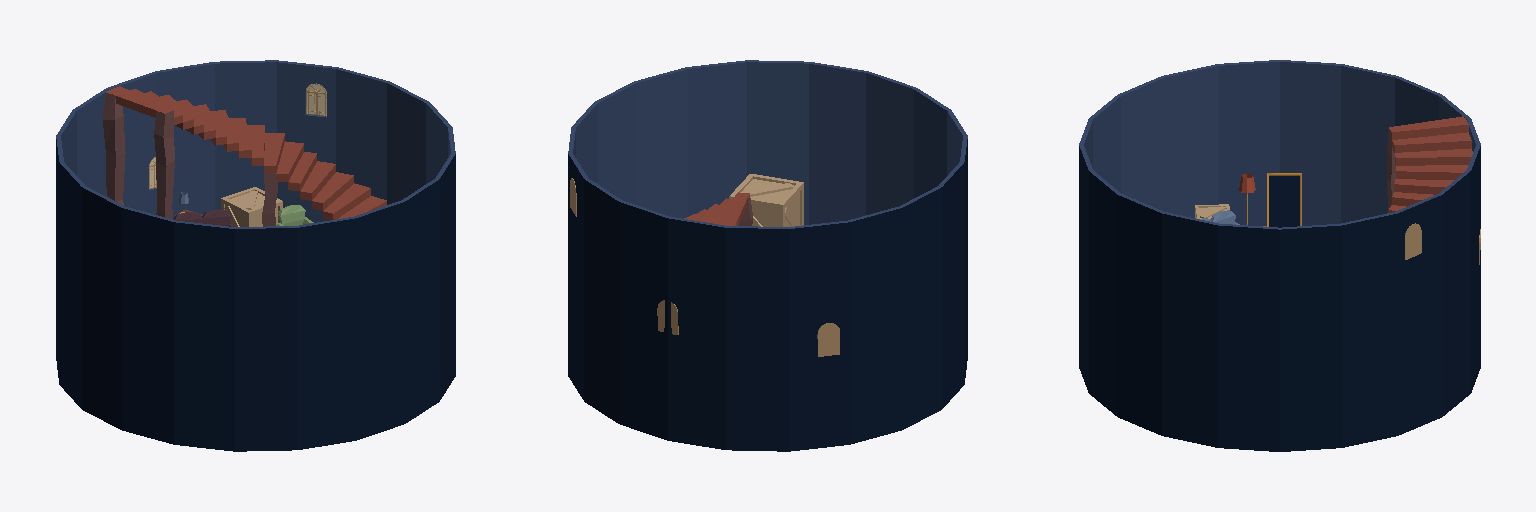
The picture shows the model from 3 angles: view 1: azimuth 30°, elevation 25°; view 2: azimuth 150°, elevation 25°; view 3: azimuth 270°, elevation 25°; orthographic projection.
Parts seen in each view (by area): view 1: pCylinder5, polySurface242, pCube140, pCube12, pCube124, pCube141; view 2: pCylinder5, pCube141, polySurface242, pCube126; view 3: pCylinder5, polySurface242, furniture:pCube13.
Part boxes in pixels (x1,y1,x2,y2): pCylinder5: (56, 60, 455, 451); polySurface242: (103, 86, 386, 226); pCube140: (221, 187, 282, 226); pCube12: (173, 209, 235, 226); pCube124: (306, 83, 326, 115); pCube141: (276, 205, 313, 225); pCylinder5: (568, 60, 967, 451); pCube141: (729, 174, 803, 226); polySurface242: (684, 192, 752, 225); pCube126: (817, 323, 839, 356); pCylinder5: (1079, 60, 1480, 451); polySurface242: (1387, 116, 1472, 212); furniture:pCube13: (1267, 173, 1301, 227).
Bounding box in the file's own units: 12.69 × 7.75 × 12.69.
13 materials, 13 textured.